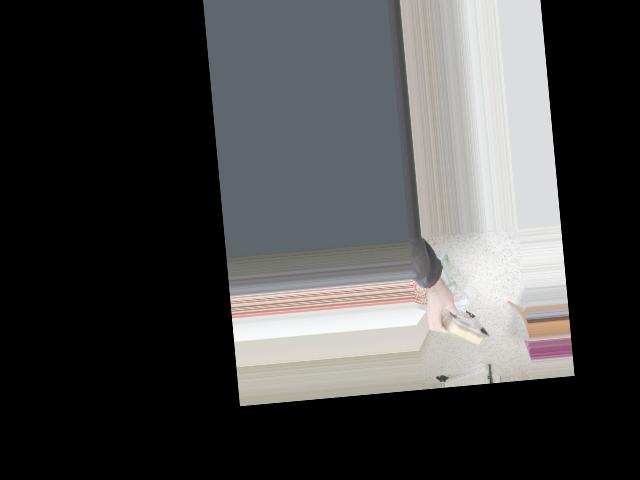cheese: (418, 292, 499, 358)
